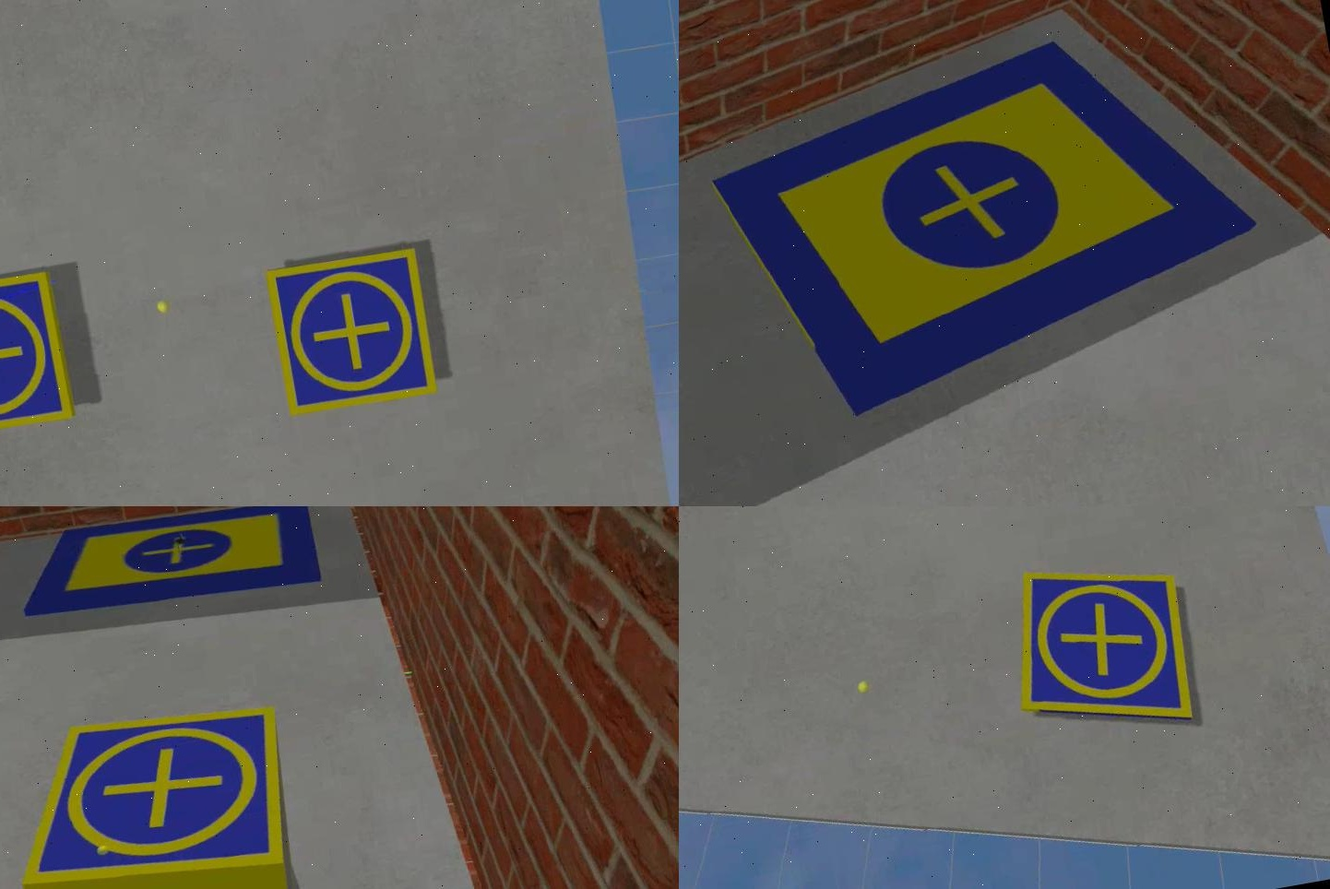large_base: (690, 6, 1279, 441), (4, 506, 321, 630)
small_base: (0, 692, 301, 889), (1001, 549, 1202, 751), (265, 243, 438, 421), (0, 267, 77, 449)
